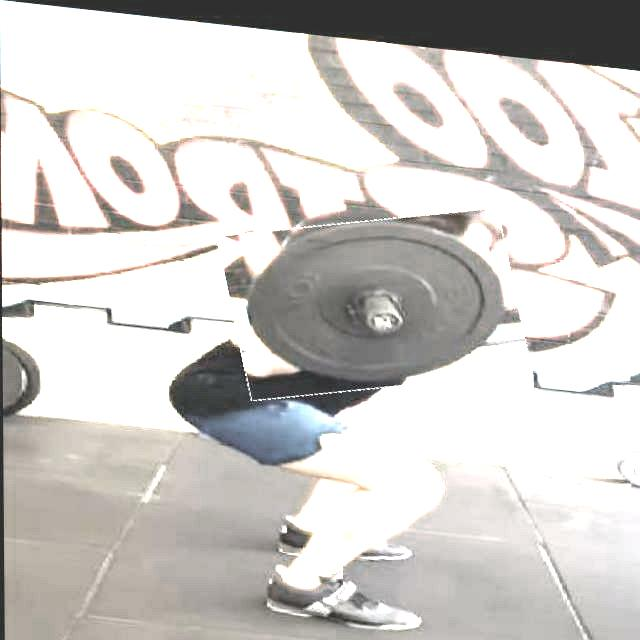barbell: (223, 187, 525, 405)
